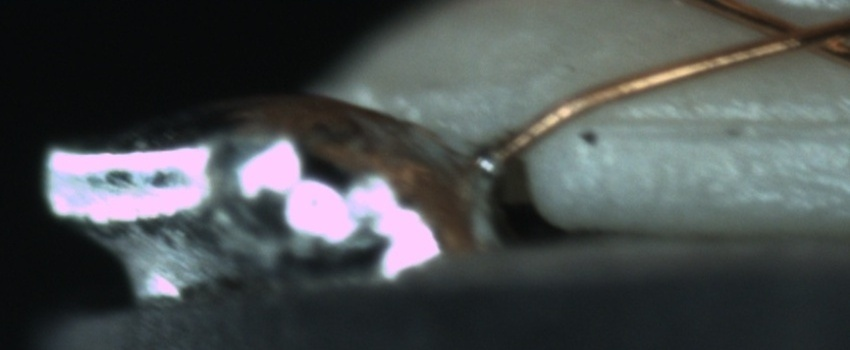CL: (746, 5, 846, 62)
DL: (600, 92, 850, 157)
